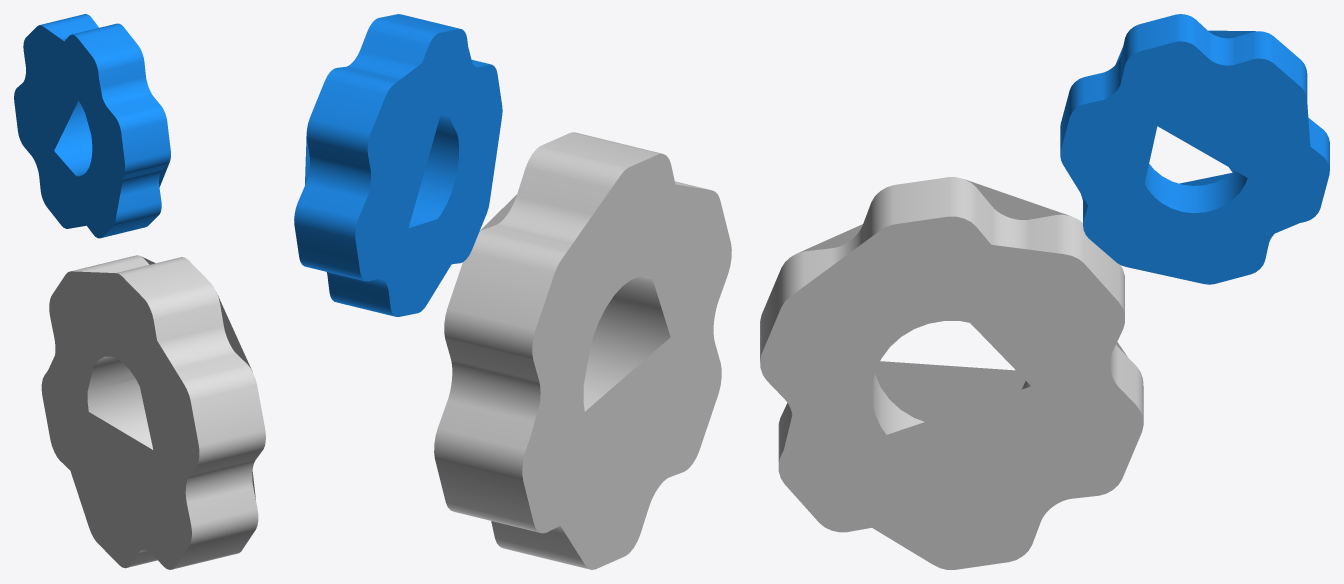
The picture shows the model from 3 angles, left to right: view 1: azimuth 30°, elevation 25°; view 2: azimuth 150°, elevation 25°; view 3: azimuth 270°, elevation 25°; orthographic projection. The views are drawn at different scales.
Parts seen in each view (by area): view 1: Star, Star002; view 2: Star, Star002; view 3: Star, Star002.
Part boxes in pixels (<box>): Star: <box>41,255,265,569</box>; Star002: <box>14,14,170,238</box>; Star: <box>434,132,731,569</box>; Star002: <box>294,14,502,316</box>; Star: <box>760,177,1143,569</box>; Star002: <box>1060,14,1329,284</box>.
Size of the model in its own units: 70.42 by 318 by 301.
